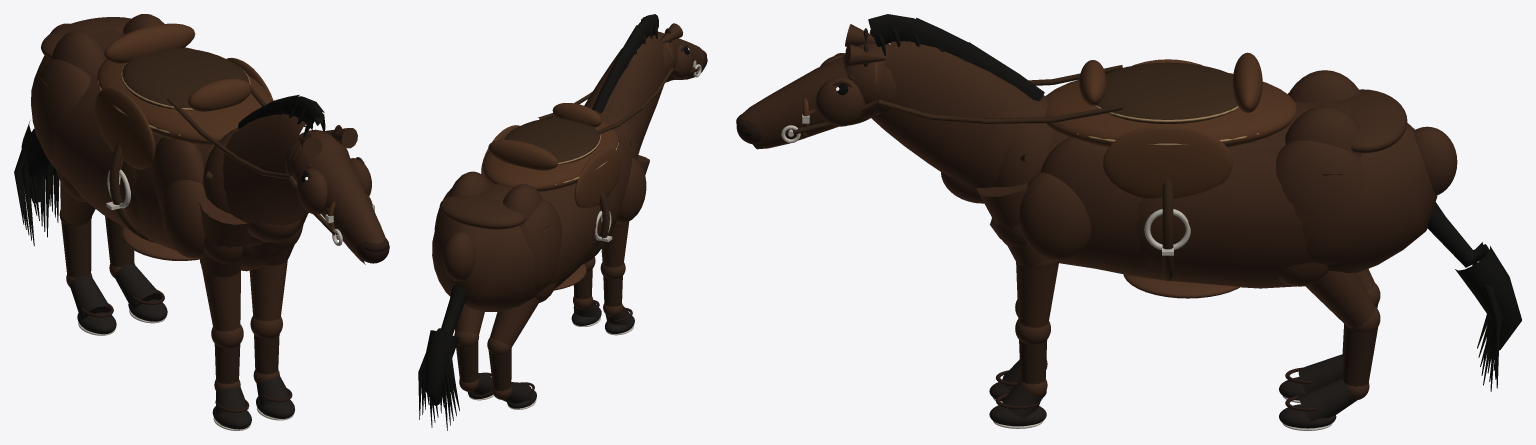
File: module-horse.glb
3 renders of one model, left to right at view 1: azimuth 30°, elevation 25°; view 2: azimuth 150°, elevation 25°; view 3: azimuth 270°, elevation 25°, orthographic. The views are drawn at different scales.
Parts seen in each view (by area): view 1: BodyRear, NeckUpper, SaddleSeat, SaddlePad, HeadShell, SaddleFlap_R, HaunchMass_R, Triceps_R, BodyFront, SaddleCantle, FrontR_Upper, ShoulderBlade_R (+40 smaller); view 2: BodyRear, NeckUpper, SaddlePad, SaddleSeat, HaunchMass_R, CroupRidge, SaddleFlap_R, TailHairMass, SaddleCantle, RumpCap, HindR_Calf, Triceps_R (+26 smaller); view 3: BodyRear, NeckUpper, HaunchMass_L, SaddleFlap_L, SaddleSeat, SaddlePad, Triceps_L, BodyFront, HeadShell, NeckLower, ShoulderBlade_L, CroupRidge (+28 smaller).
Part boxes in pixels (left/top/right/bottom): BodyRear: left=31, top=30, right=137, bottom=229; NeckUpper: left=233, top=113, right=325, bottom=221; SaddleSeat: left=121, top=48, right=249, bottom=110; SaddlePad: left=97, top=47, right=272, bottom=145; HeadShell: left=312, top=156, right=385, bottom=264; SaddleFlap_R: left=95, top=87, right=155, bottom=169; HaunchMass_R: left=34, top=59, right=91, bottom=169; Triceps_R: left=161, top=180, right=206, bottom=257; BodyFront: left=129, top=133, right=284, bottom=271; SaddleCantle: left=104, top=23, right=195, bottom=63; FrontR_Upper: left=199, top=197, right=250, bottom=277; ShoulderBlade_R: left=152, top=137, right=203, bottom=210; BodyRear: left=432, top=178, right=608, bottom=311; NeckUpper: left=590, top=36, right=665, bottom=125; SaddlePad: left=482, top=116, right=619, bottom=191; SaddleSeat: left=504, top=117, right=600, bottom=164; HaunchMass_R: left=521, top=199, right=562, bottom=292; CroupRidge: left=439, top=194, right=526, bottom=229; SaddleFlap_R: left=574, top=148, right=620, bottom=207; TailHairMass: left=423, top=330, right=458, bottom=405; SaddleCantle: left=488, top=139, right=558, bottom=170; RumpCap: left=442, top=231, right=475, bottom=281; HindR_Calf: left=490, top=297, right=538, bottom=346; Triceps_R: left=617, top=157, right=646, bottom=222; BodyRear: left=1138, top=101, right=1437, bottom=288; NeckUpper: left=871, top=41, right=1013, bottom=163; HaunchMass_L: left=1276, top=140, right=1364, bottom=265; SaddleFlap_L: left=1103, top=124, right=1232, bottom=198; SaddleSeat: left=1096, top=62, right=1238, bottom=123; SaddlePad: left=1045, top=73, right=1297, bottom=147; Triceps_L: left=1018, top=172, right=1091, bottom=260; BodyFront: left=990, top=131, right=1177, bottom=281; HeadShell: left=740, top=56, right=875, bottom=149; NeckLower: left=928, top=72, right=1032, bottom=188; ShoulderBlade_L: left=1041, top=137, right=1116, bottom=230; CroupRidge: left=1341, top=89, right=1407, bottom=153.
Bounding box in the file's own units: 0.785 × 1.76 × 3.15.
